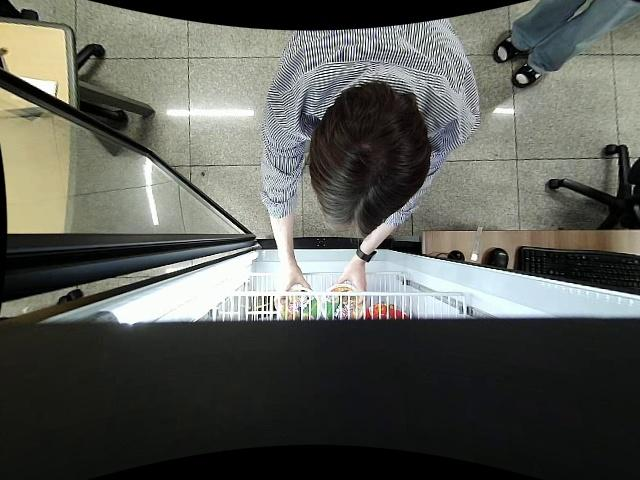00_hand: (275, 271, 310, 308), (335, 266, 368, 304)
09_yukGaeJang: (275, 288, 319, 320), (323, 286, 364, 319)
